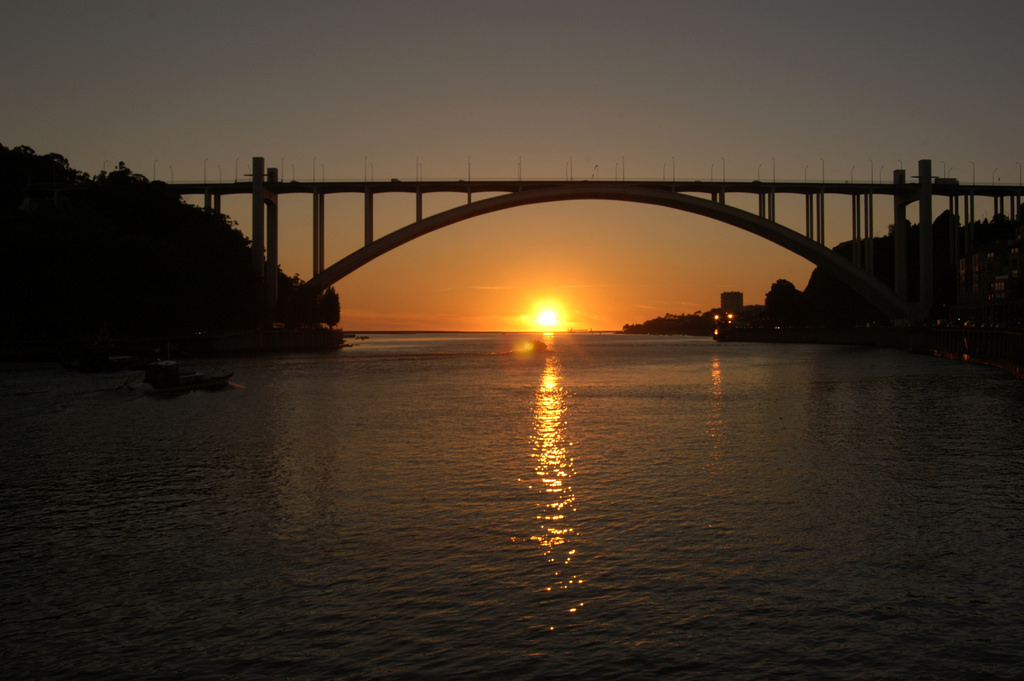arrabida: (160, 154, 1023, 297)
